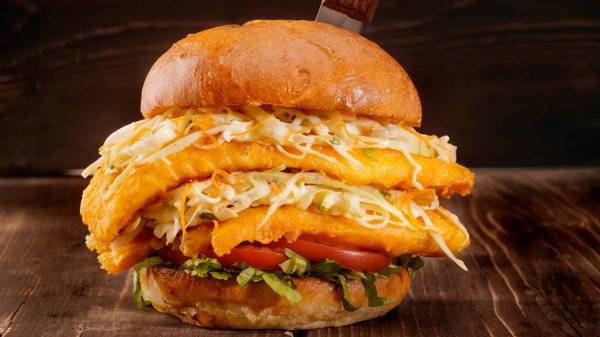soup: (78, 19, 474, 329)
